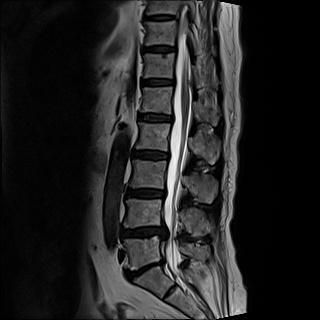L1,: (136, 88, 179, 113)
L1-L2,v5: (134, 105, 177, 130)
L2,: (131, 125, 174, 150)
L2-L3,v2: (131, 142, 174, 167)
L2-L3,v5: (131, 142, 174, 167)
L3,: (127, 160, 170, 185)
L3-L4,v2: (125, 179, 168, 204)
L4,: (122, 200, 165, 225)
L4-L5,v4: (121, 219, 164, 244)
L5,: (121, 239, 164, 264)
L5-S1,v2: (125, 256, 168, 281)
T12-L1,v1: (138, 71, 181, 96)
